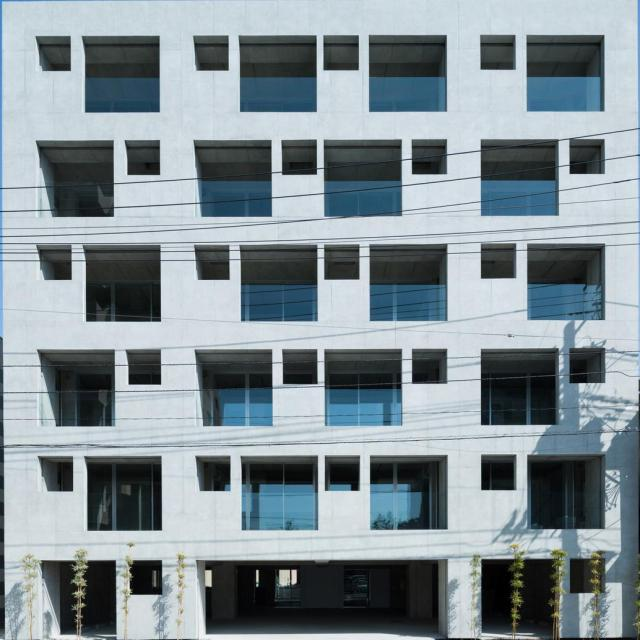railing: (198, 390, 271, 428), (481, 183, 559, 217), (193, 183, 271, 217), (529, 496, 607, 530), (81, 77, 158, 111), (369, 76, 446, 110), (528, 288, 605, 322), (240, 288, 317, 322), (241, 496, 318, 530), (527, 78, 605, 111), (239, 78, 317, 111), (323, 182, 400, 215), (369, 287, 446, 320), (482, 394, 559, 427), (323, 393, 400, 426), (370, 495, 447, 528)
window: (93, 464, 160, 529), (55, 163, 114, 216), (110, 262, 158, 322), (241, 462, 316, 495), (369, 461, 434, 495), (76, 370, 115, 425), (529, 461, 592, 495), (482, 372, 556, 394), (328, 370, 400, 392), (211, 371, 273, 390), (327, 460, 361, 492), (481, 461, 514, 491), (212, 463, 229, 490), (283, 370, 314, 384), (569, 359, 586, 383), (59, 463, 73, 492), (129, 373, 161, 385), (412, 369, 436, 384)
